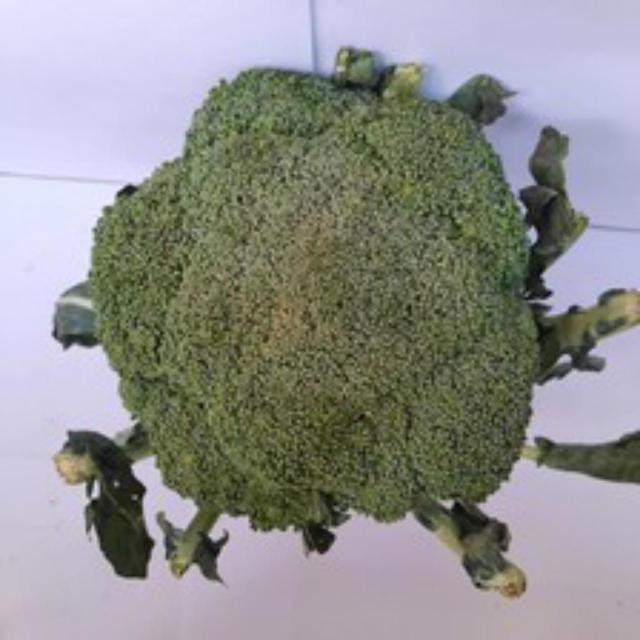broccoli: (90, 65, 551, 525)
